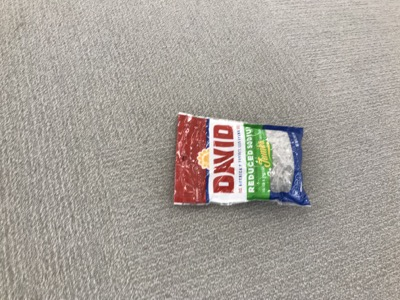sunflower seed: (172, 110, 310, 210)
